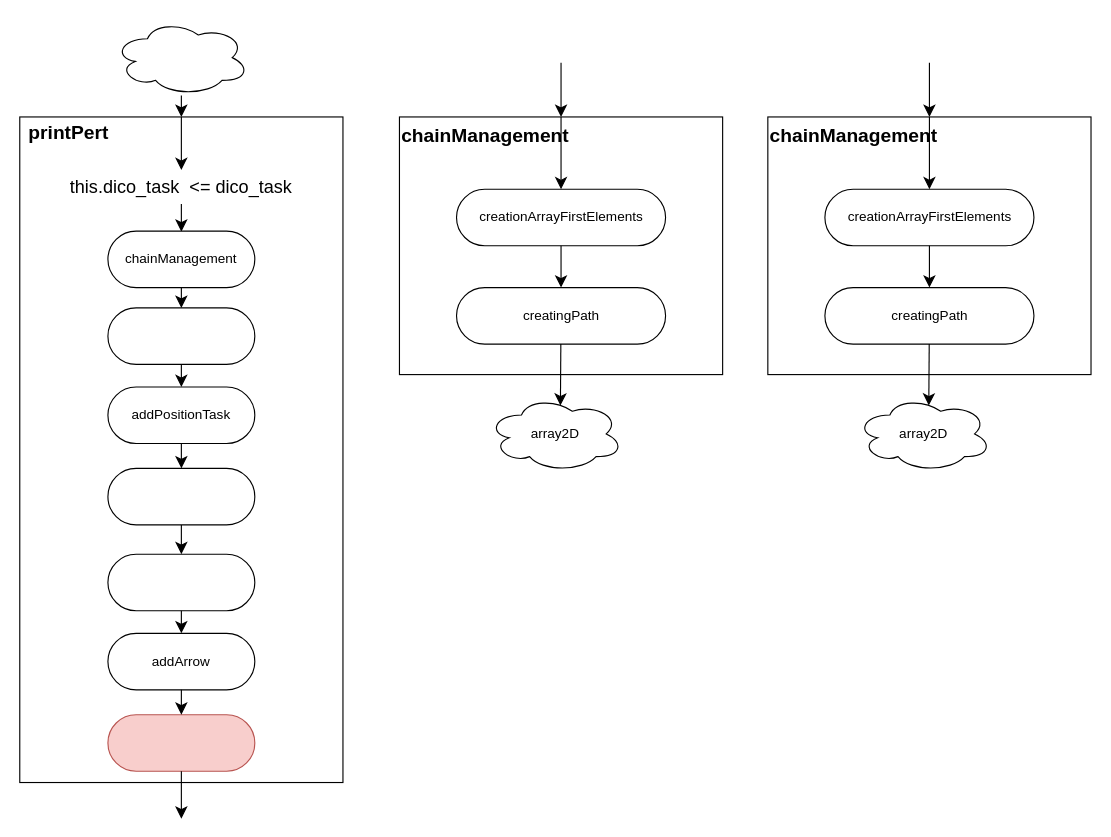
The diagram is 1111 pixels wide and 837 high, and some of its shapes have lost their labels. The centre of each missing label's shape, as x and y in pixels:
"addStartAndFinish" goes at point 181,742.
"dateManagement" goes at point 181,496.
"dico_task" goes at point 180,57.
"printTask" goes at point 181,582.
"rangPosition" goes at point 181,335.
